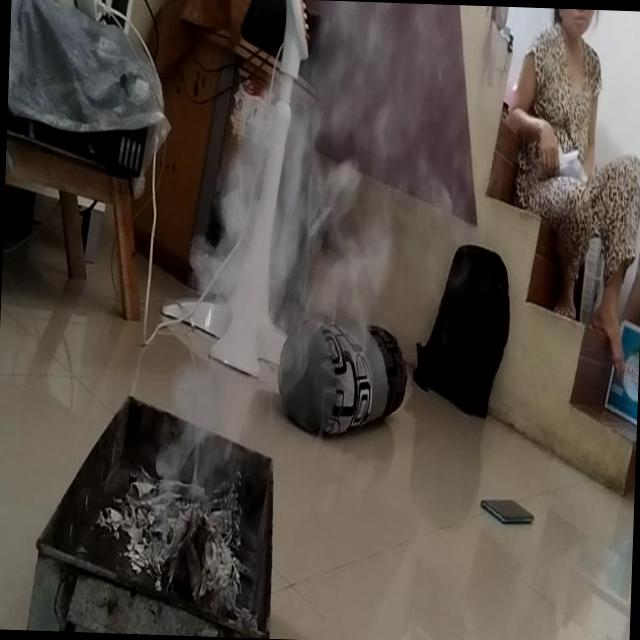smoke: (220, 10, 412, 302), (122, 307, 274, 578)
